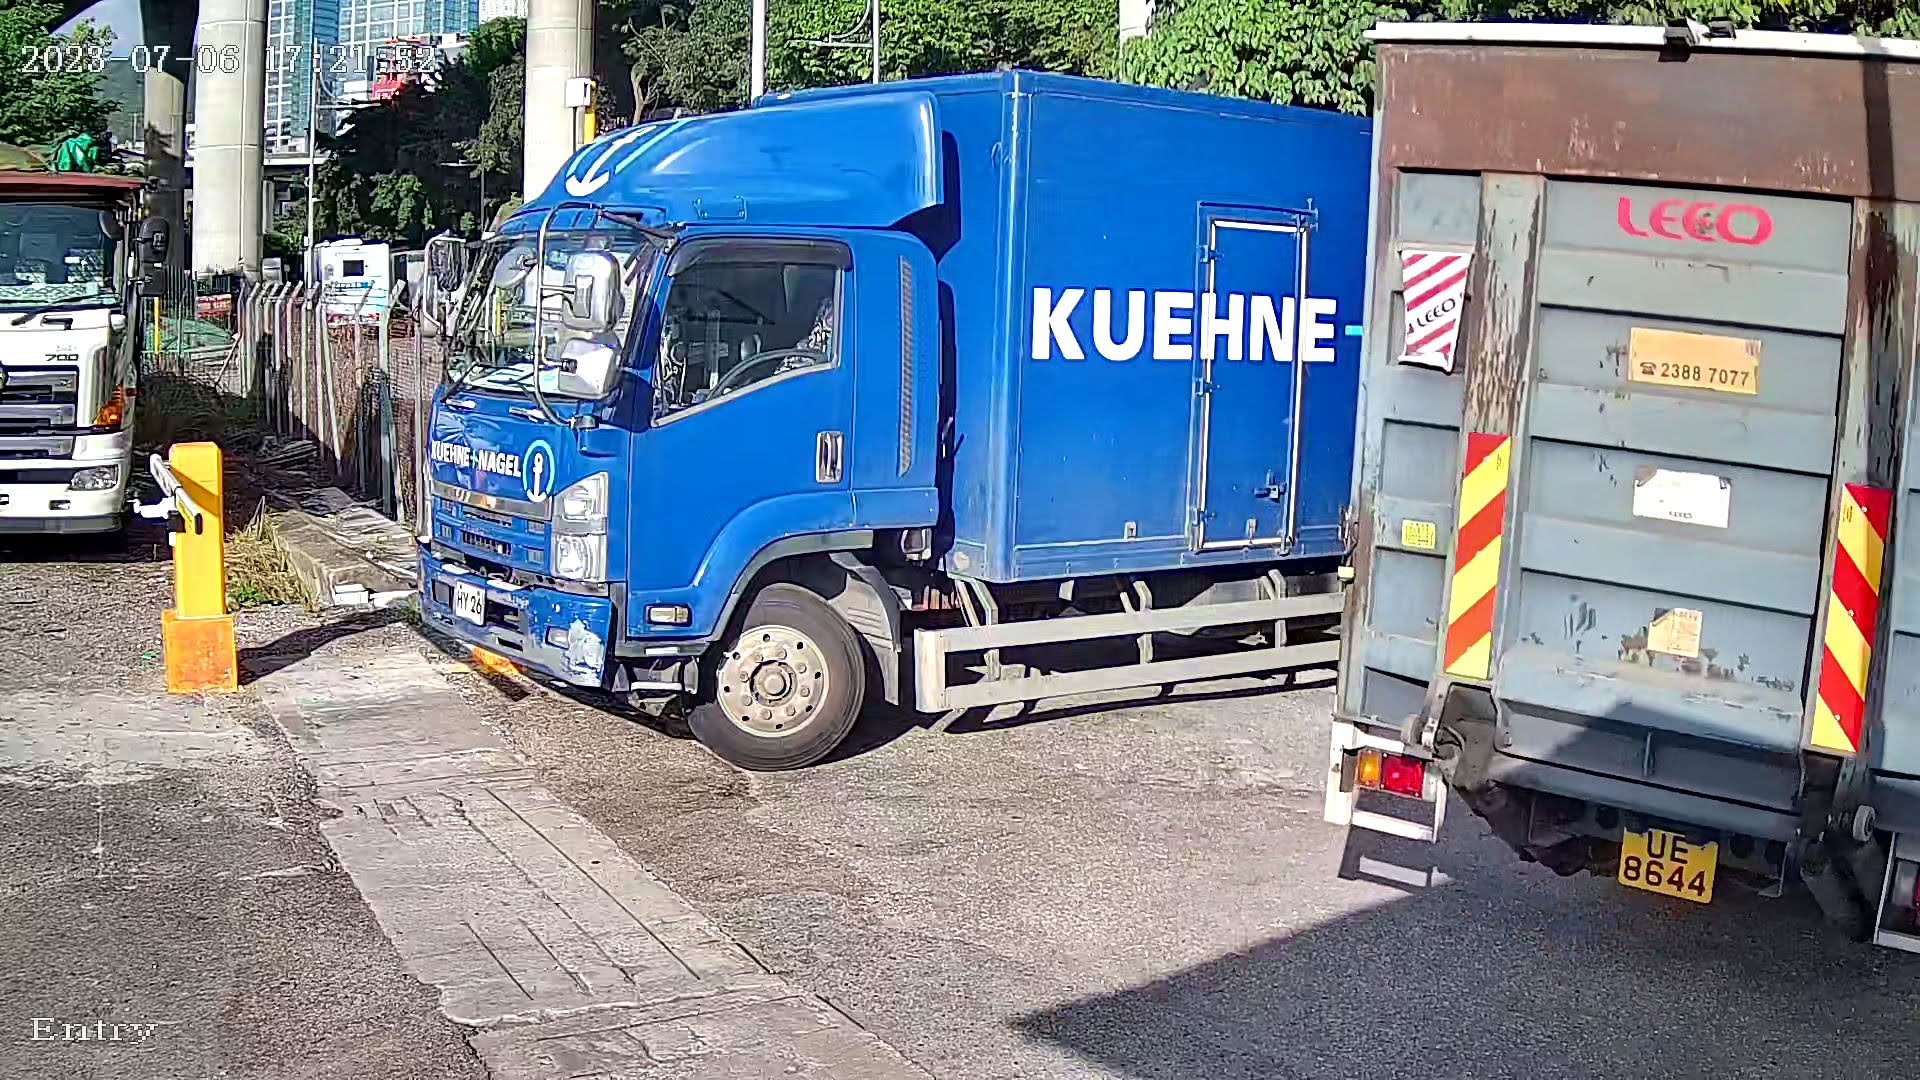truck: (367, 45, 1408, 783), (1298, 18, 1920, 972)
